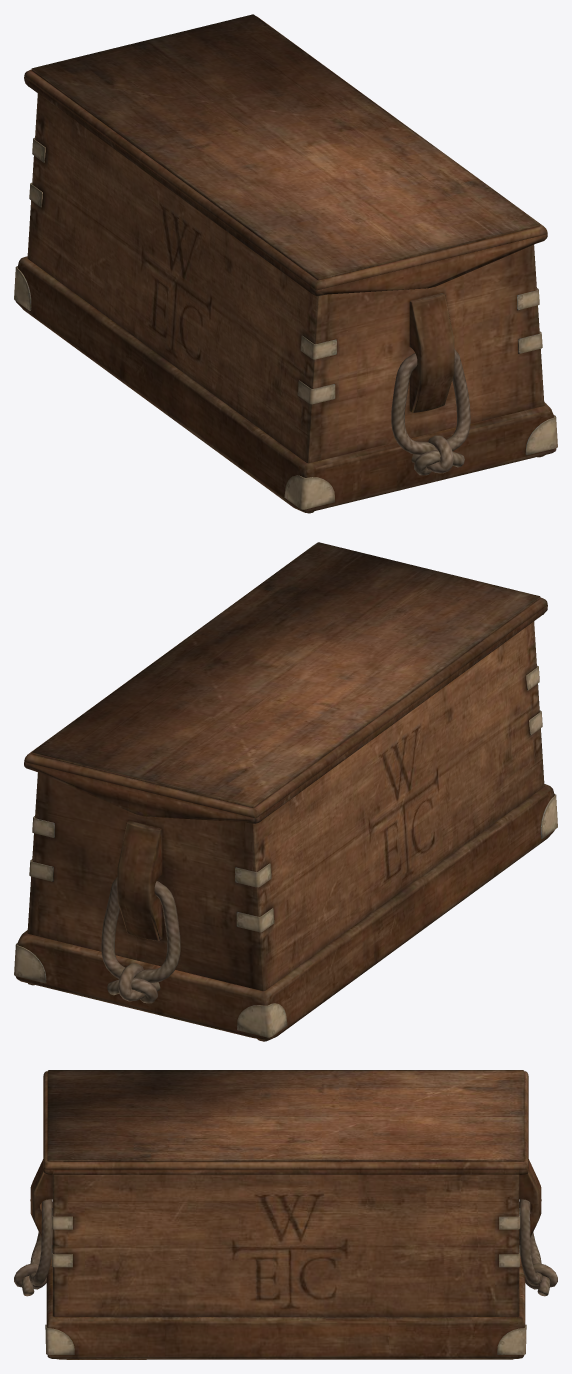
File: wooden_crate_02.glb
3 renders of one model, top to bottom at view 1: azimuth 30°, elevation 25°; view 2: azimuth 150°, elevation 25°; view 3: azimuth 270°, elevation 25°, orthographic. The views are drawn at different scales.
Parts seen in each view (by area): view 1: wooden_crate_02_crate, wooden_crate_02_lid; view 2: wooden_crate_02_crate, wooden_crate_02_lid; view 3: wooden_crate_02_crate, wooden_crate_02_lid.
Boxes of the visible parts, x1,y1,x2,y2 form: wooden_crate_02_crate: (14, 93, 557, 513); wooden_crate_02_lid: (24, 14, 547, 296); wooden_crate_02_crate: (14, 621, 557, 1041); wooden_crate_02_lid: (24, 542, 547, 823); wooden_crate_02_crate: (14, 1159, 557, 1359); wooden_crate_02_lid: (43, 1070, 528, 1174).
Bounding box in the file's own units: 0.5291 × 0.464 × 1.17.
1 material, 1 textured.
